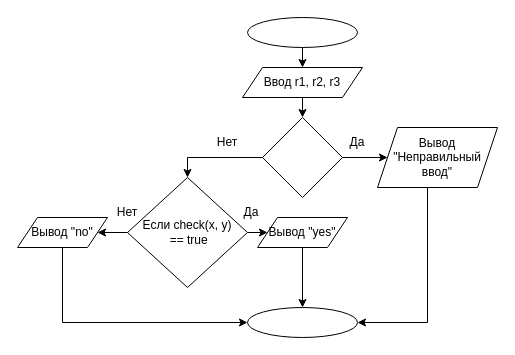
Some shapes in this 515 by 355 pixel diagram are drawn without their labels. The centre of each missing label's shape, as x and y in pixels:
Если r1 <= 0: [302,157]
Конец: [302,322]
Начало: [302,32]
